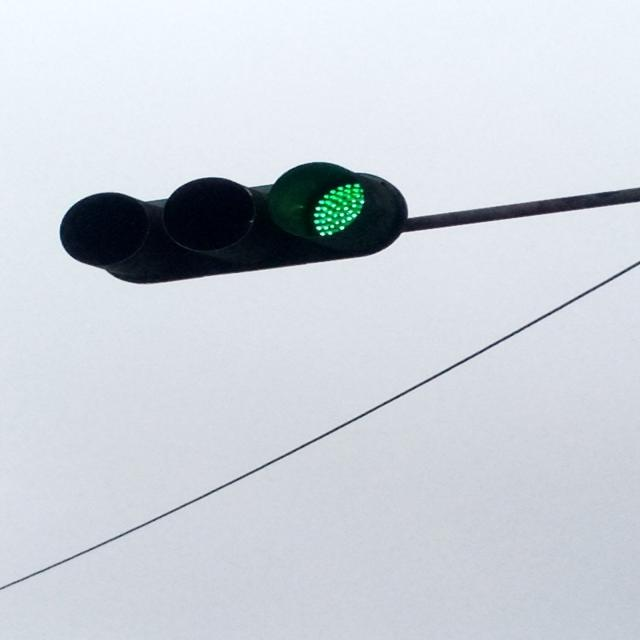green light: (61, 161, 406, 287)
